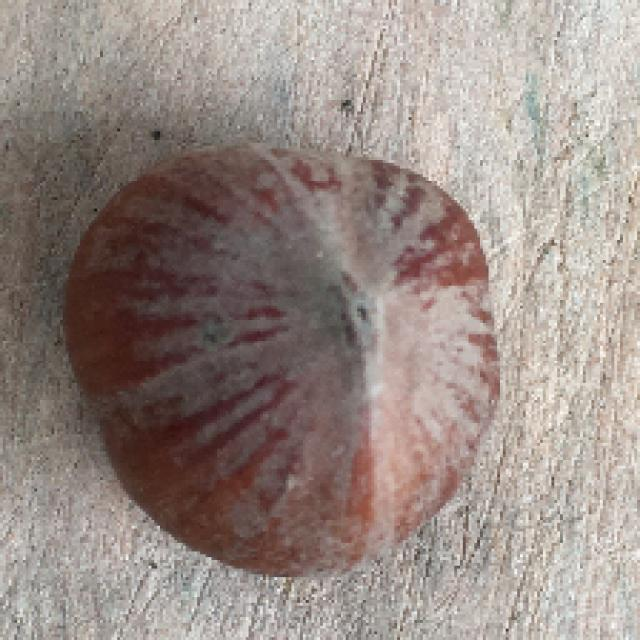QualityHazelnut: (59, 143, 501, 581)
